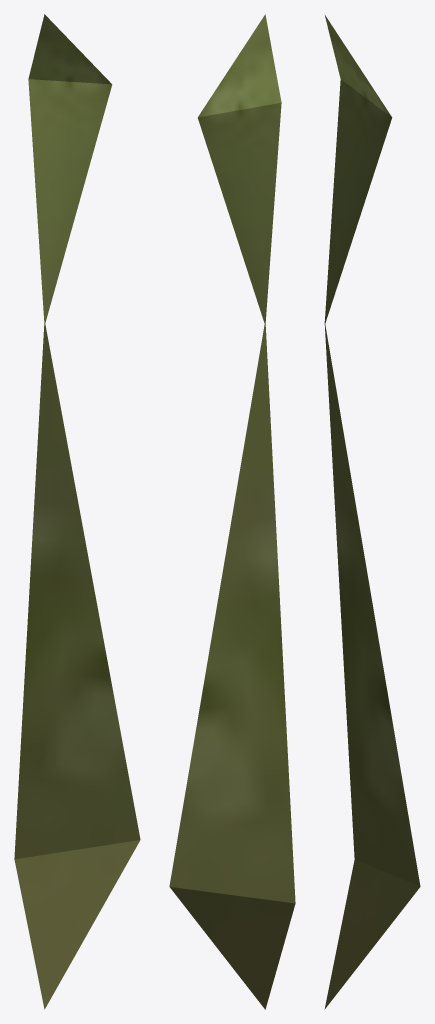
3 renders of one model, left to right at view 1: azimuth 30°, elevation 25°; view 2: azimuth 210°, elevation 25°; view 3: azimuth 330°, elevation 25°, orthographic.
Bounding box in the file's own units: 0.1131 × 1.12 × 0.0615.
Materials: 1 (1 with a texture image).
